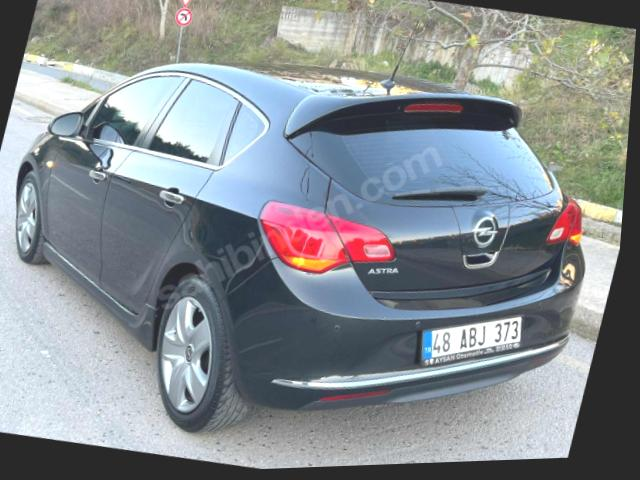plaka: (421, 316, 521, 365)
